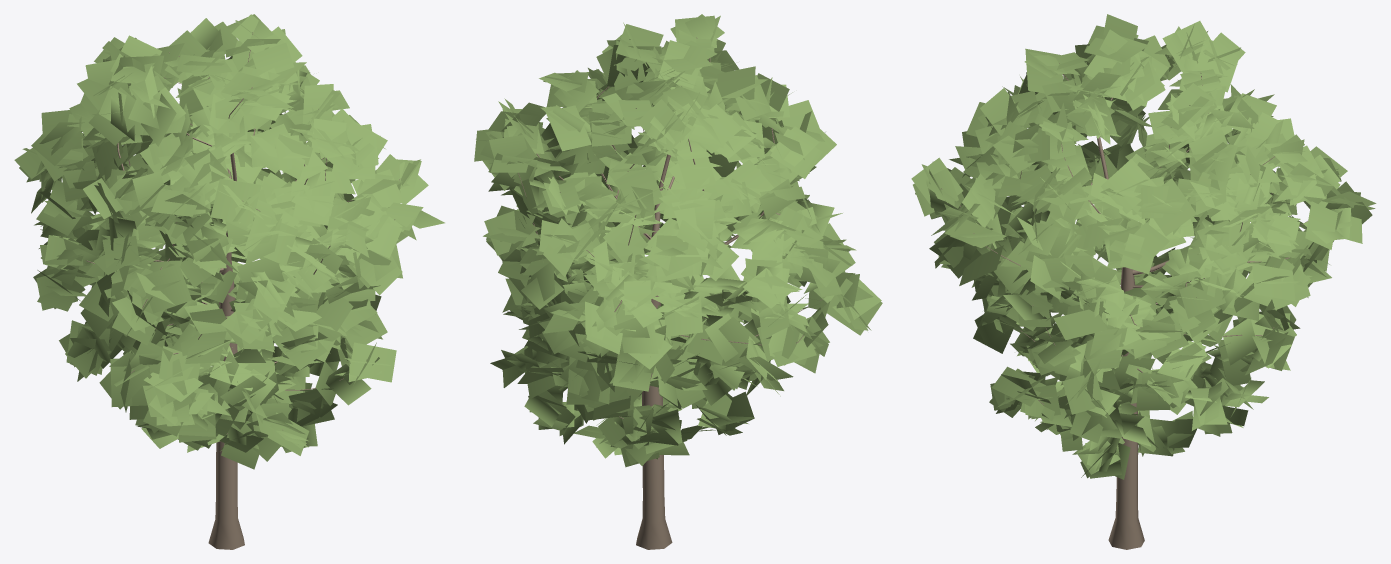
File: Maple_1_lod1.glb
The picture shows the model from 3 angles, left to right: view 1: azimuth 30°, elevation 25°; view 2: azimuth 150°, elevation 25°; view 3: azimuth 270°, elevation 25°; orthographic projection.
Visible parts, largest first — view 1: Maple_1_lod1; view 2: Maple_1_lod1; view 3: Maple_1_lod1.
Boxes of the visible parts, left/top/right/bottom form: Maple_1_lod1: left=14, top=14, right=444, bottom=549; Maple_1_lod1: left=474, top=14, right=882, bottom=549; Maple_1_lod1: left=911, top=14, right=1376, bottom=549.
Bounding box in the file's own units: 15.66 × 20.73 × 17.79.
